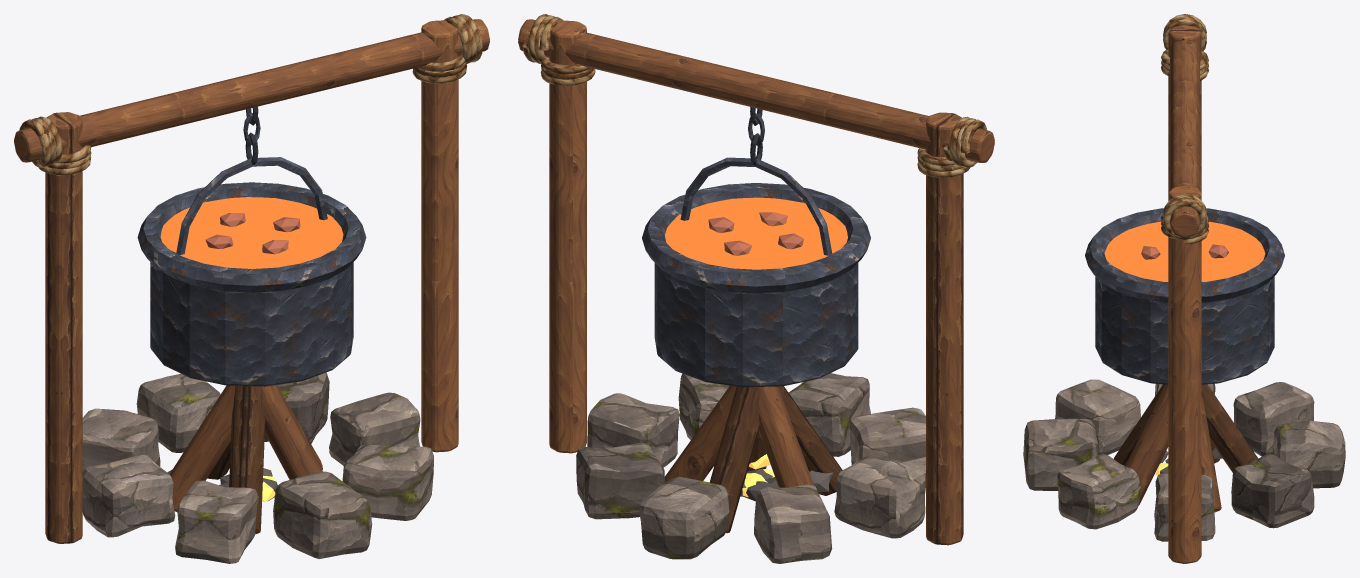
File: cooking_pot.glb
3 renders of one model, left to right at view 1: azimuth 30°, elevation 25°; view 2: azimuth 150°, elevation 25°; view 3: azimuth 270°, elevation 25°, orthographic. The views are drawn at different scales.
Parts seen in each view (by area): view 1: model; view 2: model; view 3: model.
Boxes of the visible parts, box(x1,y1,x2,y2) form: model: box(14, 14, 489, 563); model: box(518, 14, 994, 563); model: box(1023, 14, 1345, 563).
Bounding box in the file's own units: 1.35 × 1.22 × 0.9331.
21 materials, 11 textured.
